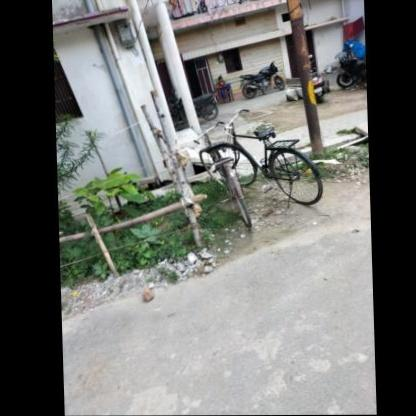Bicycle: (224, 102, 332, 212), (190, 129, 260, 239)
